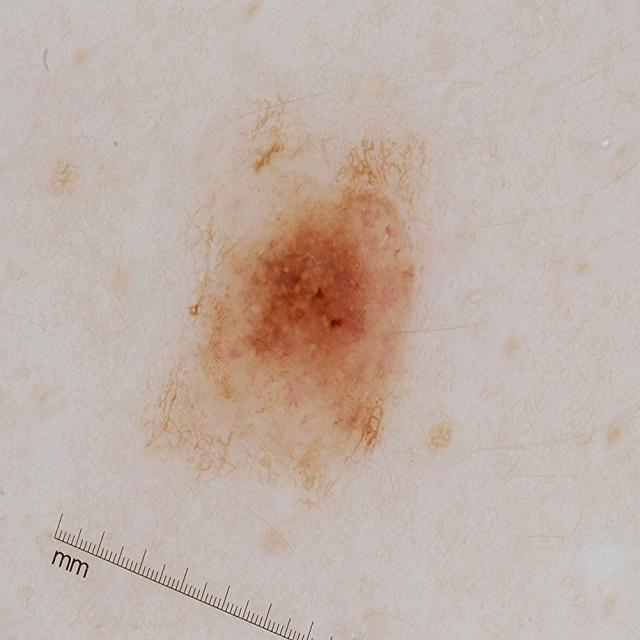Skin-Cancer Nevus: (67, 0, 509, 543)
